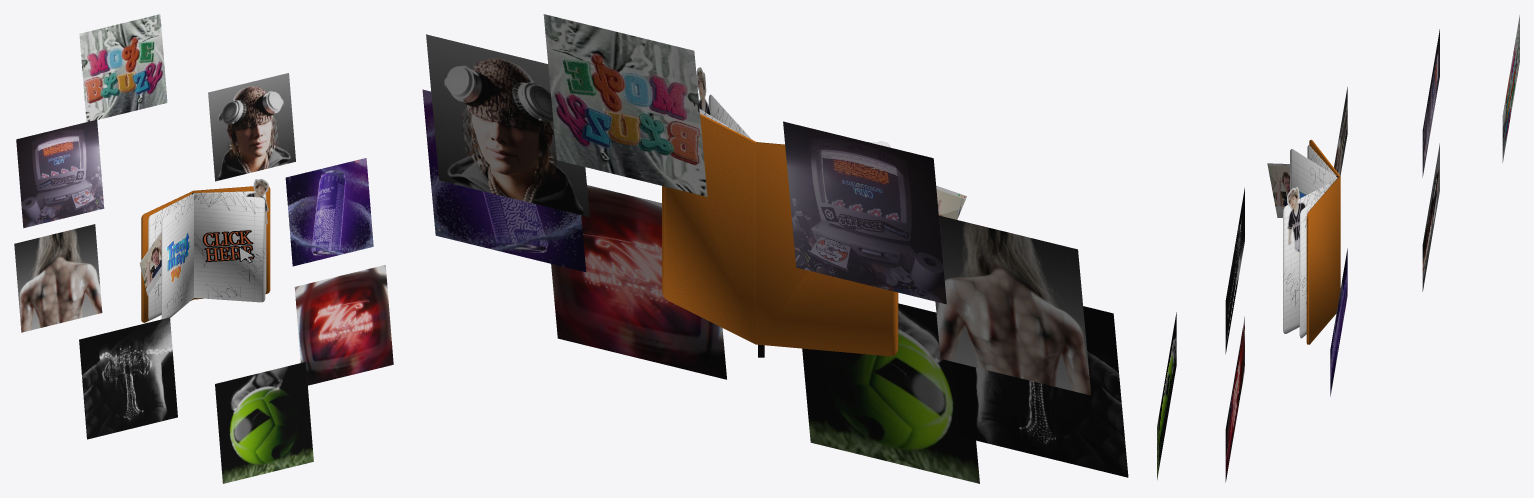
File: treatment.glb
The picture shows the model from 3 angles, left to right: view 1: azimuth 30°, elevation 25°; view 2: azimuth 150°, elevation 25°; view 3: azimuth 270°, elevation 25°; orthographic projection. The views are drawn at different scales.
Visible parts, largest first — view 1: Plane.013, Plane.014, Plane.015, Plane.012, Plane.008, Plane.011, Plane.009, Plane.010, Plane.004, Plane.005, REELS, Plane.002 (+3 smaller); view 2: Plane.011, Plane.010, Plane.012, Plane.009, Plane.014, Plane.015, Plane.001, Plane.013, Plane, Plane.008; view 3: Plane.001, Plane.004, Plane.005, Plane.014, Plane.013, Plane.015, Plane.003, Plane.008, Plane.009, Plane.010, Plane.011, Screenshot 2024-12-31 at 14.29.11 (+2 smaller).
Boxes of the visible parts, bbox=[...] form: Plane.013: bbox=[79, 317, 177, 439]; Plane.014: bbox=[215, 362, 313, 483]; Plane.015: bbox=[294, 265, 393, 385]; Plane.012: bbox=[14, 224, 102, 332]; Plane.008: bbox=[285, 158, 373, 266]; Plane.011: bbox=[16, 119, 104, 228]; Plane.009: bbox=[208, 73, 295, 181]; Plane.010: bbox=[79, 14, 167, 121]; Plane.004: bbox=[194, 193, 265, 302]; Plane.005: bbox=[161, 193, 193, 319]; REELS: bbox=[202, 230, 254, 263]; Plane.002: bbox=[148, 194, 191, 320]; Plane.011: bbox=[783, 121, 946, 304]; Plane.010: bbox=[543, 14, 707, 196]; Plane.012: bbox=[935, 215, 1091, 395]; Plane.009: bbox=[426, 34, 589, 217]; Plane.014: bbox=[802, 303, 979, 483]; Plane.015: bbox=[551, 185, 726, 379]; Plane.001: bbox=[662, 113, 756, 344]; Plane.013: bbox=[952, 306, 1128, 477]; Plane: bbox=[755, 142, 898, 356]; Plane.008: bbox=[422, 89, 586, 272]; Plane.001: bbox=[1306, 176, 1340, 344]; Plane.004: bbox=[1283, 180, 1335, 333]; Plane.005: bbox=[1290, 149, 1337, 198]; Plane.014: bbox=[1157, 312, 1176, 479]; Plane.013: bbox=[1225, 188, 1244, 353]; Plane.015: bbox=[1225, 316, 1244, 482]; Plane.003: bbox=[1299, 183, 1332, 338]; Plane.008: bbox=[1330, 248, 1347, 396]; Plane.009: bbox=[1422, 143, 1439, 291]; Plane.010: bbox=[1502, 15, 1519, 162]; Plane.011: bbox=[1422, 29, 1439, 177]; Screenshot 2024-12-31 at 14.29.11: bbox=[1267, 163, 1289, 217].
Size of the model in its own units: 3.42 by 3.16 by 2.5.
Materials: 16 (15 with a texture image).
